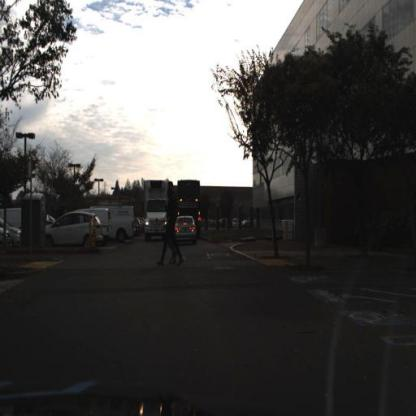car: (46, 210, 102, 248), (94, 208, 136, 240), (85, 209, 115, 239), (174, 215, 199, 245)
pedestrian: (161, 194, 181, 271), (167, 180, 180, 265)
truck: (145, 180, 169, 237), (180, 178, 202, 239)
